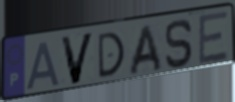A: (127, 23, 164, 78), (25, 40, 62, 92)
D: (96, 30, 127, 81)
E: (197, 10, 229, 68)
S: (163, 17, 195, 70)
V: (59, 30, 97, 87)
